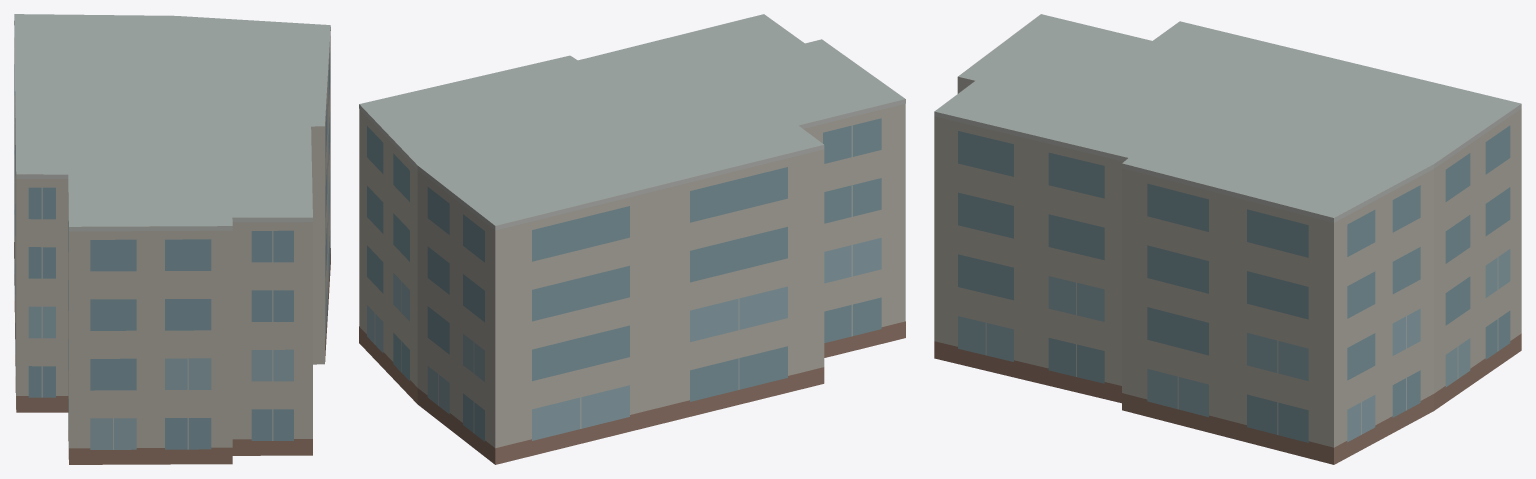
File: survey-upis-32666059.glb
The picture shows the model from 3 angles, left to right: view 1: azimuth 30°, elevation 25°; view 2: azimuth 150°, elevation 25°; view 3: azimuth 270°, elevation 25°; orthographic projection. The views are drawn at different scales.
Parts seen in each view (by area): view 1: survey-upis-32666059.tmp; view 2: survey-upis-32666059.tmp; view 3: survey-upis-32666059.tmp.
Part boxes in pixels (<box>): survey-upis-32666059.tmp: <box>14,14,330,464</box>; survey-upis-32666059.tmp: <box>359,14,905,464</box>; survey-upis-32666059.tmp: <box>934,14,1521,464</box>.
Bounding box in the file's own units: 22.34 × 12.6 × 27.18.
